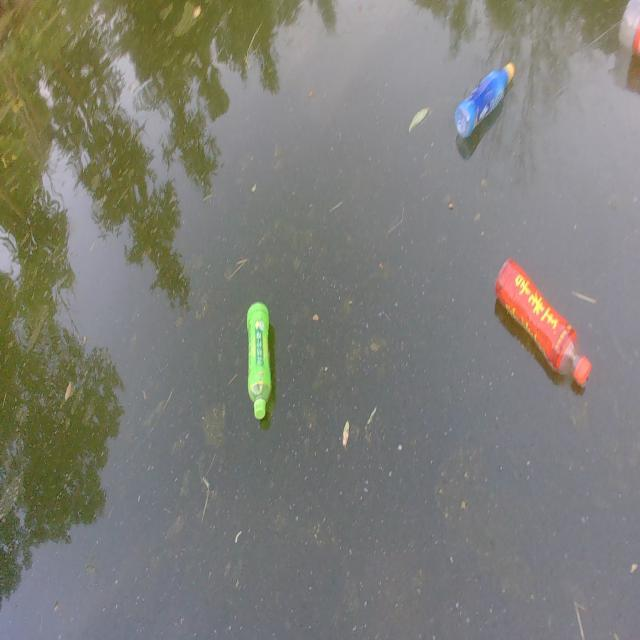bottle: (469, 228, 611, 407), (445, 52, 523, 152), (235, 296, 283, 427)
